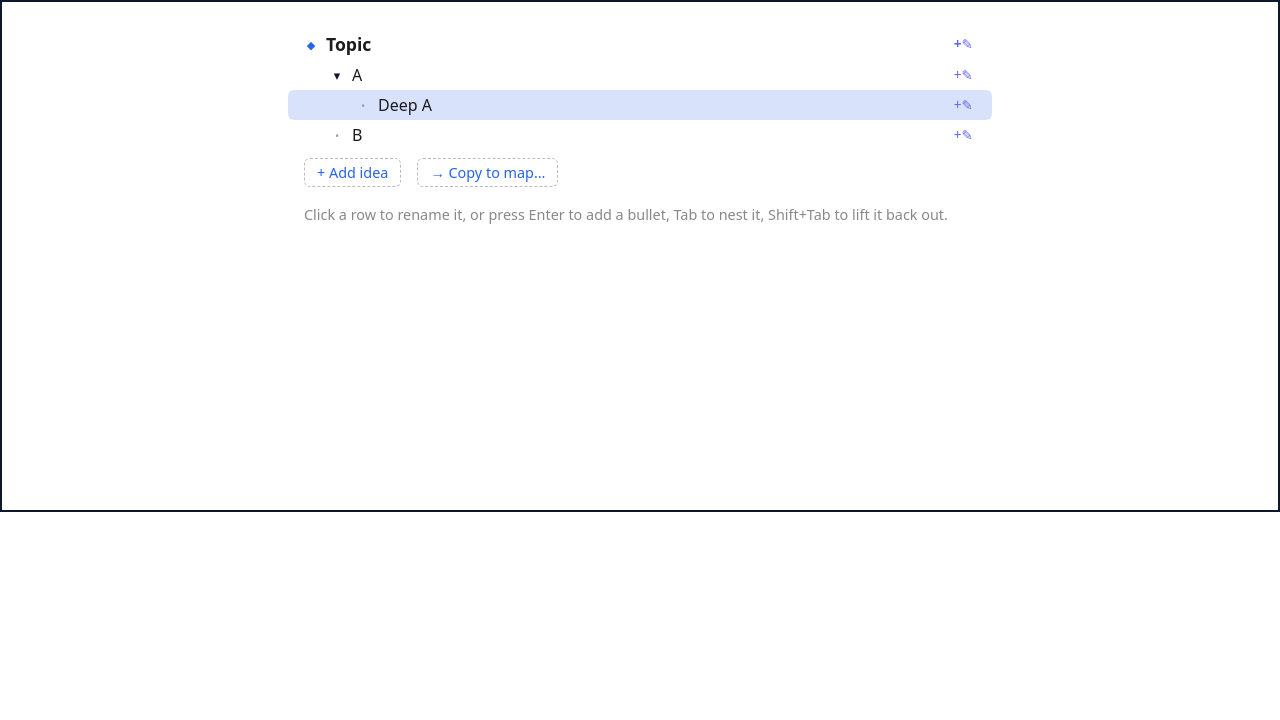
it: BrainstormOutliner › F2 starts editing a selected depth-2 child
Press F2 in the element with test id "brainstorm-outliner"
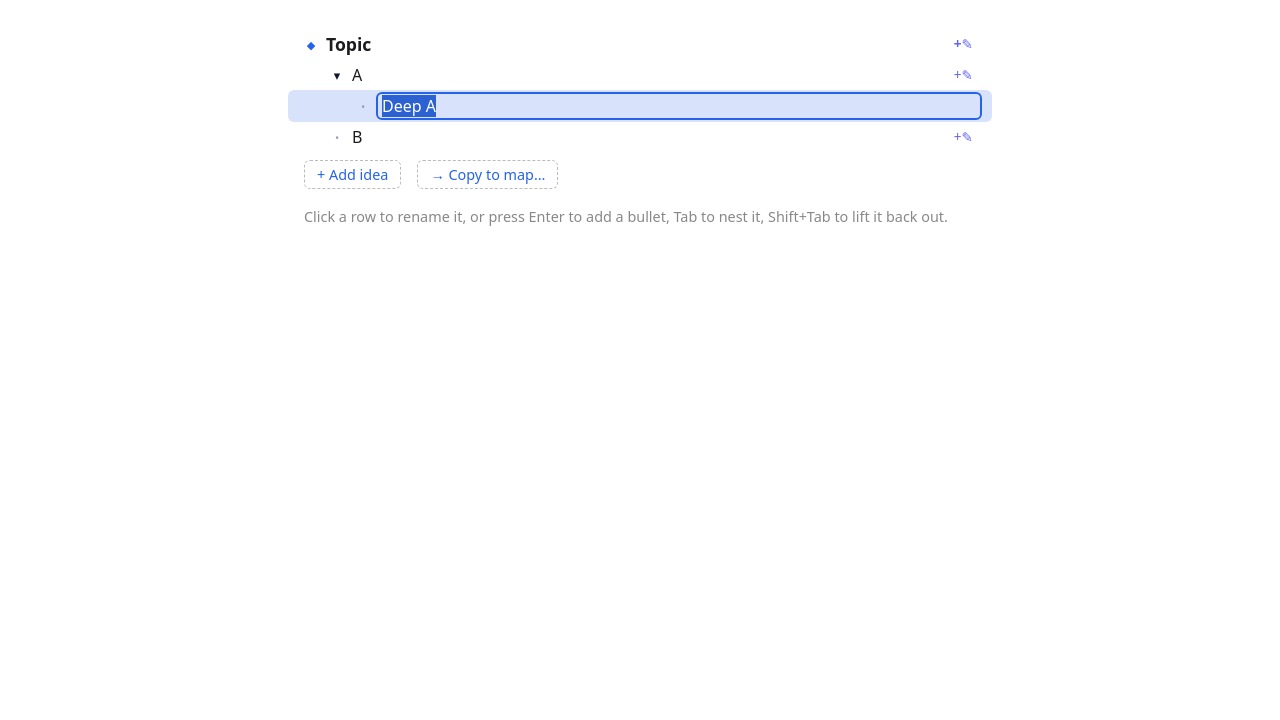
Replace the text in the field showing "Deep A" with "F2 renamed": (679, 106) x1=378 y1=94 x2=980 y2=118
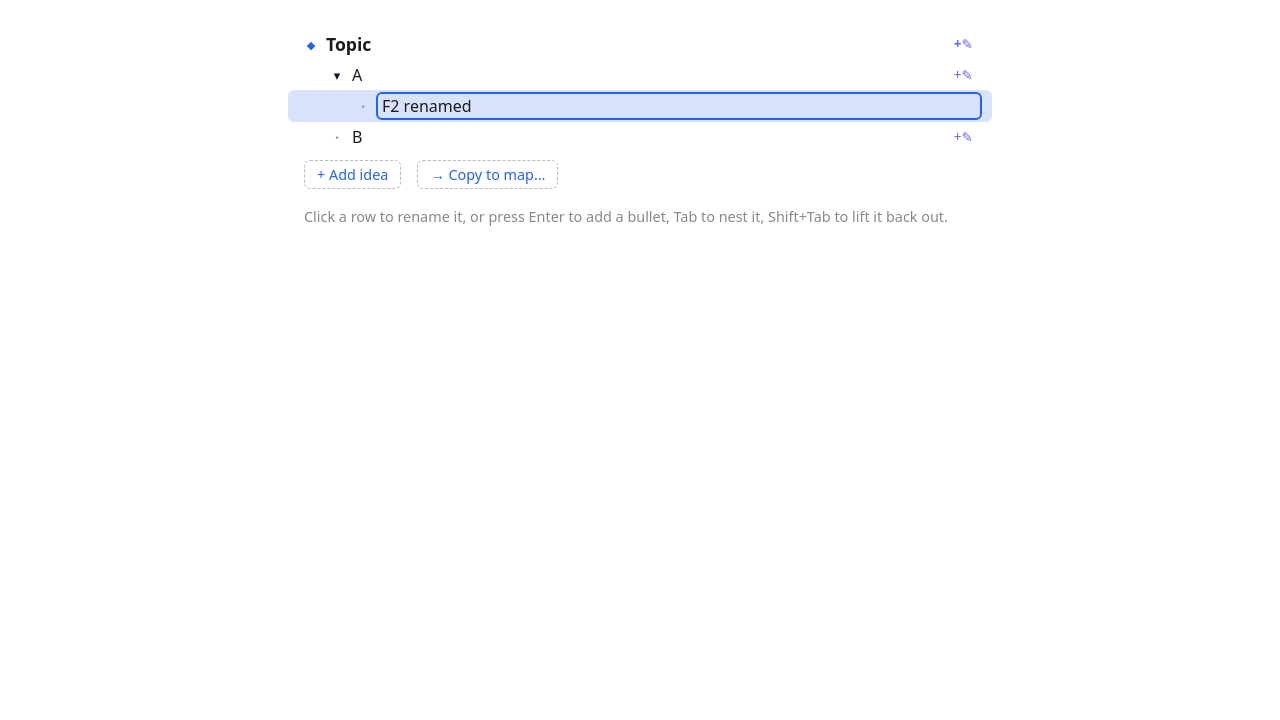
Press Enter in the field showing "Deep A", box x1=378 y1=94 x2=980 y2=118
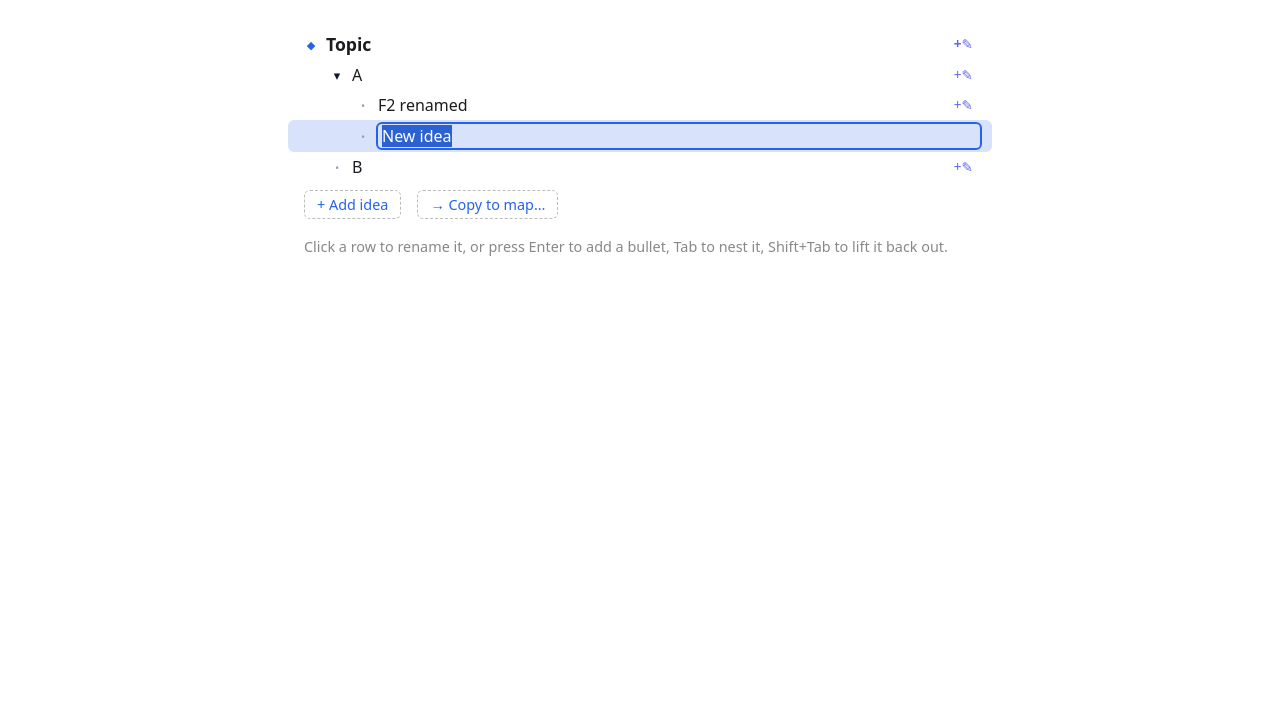
Check: the text "F2 renamed" is shown, box x1=378 y1=94 x2=468 y2=116
